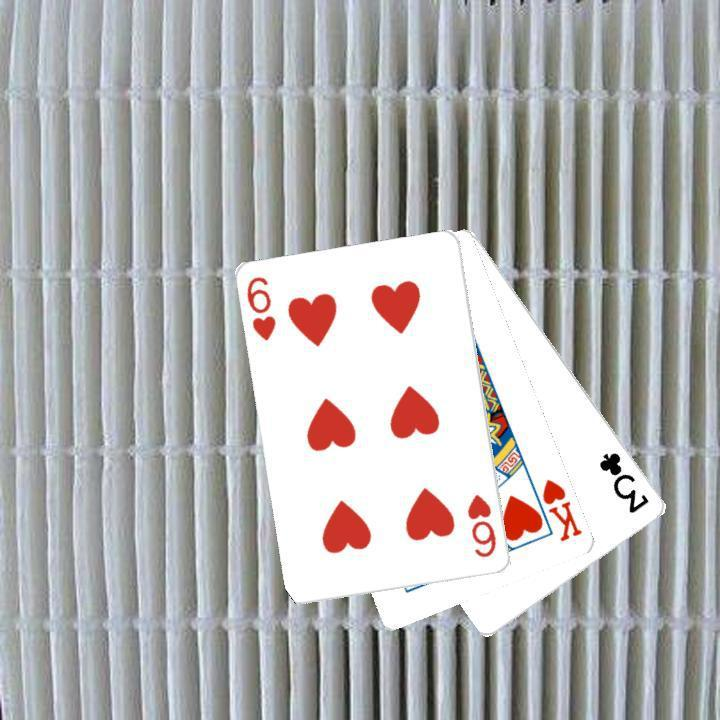3: (595, 448, 652, 516)
6: (463, 490, 499, 560), (242, 273, 278, 343)
K: (538, 475, 585, 544)
